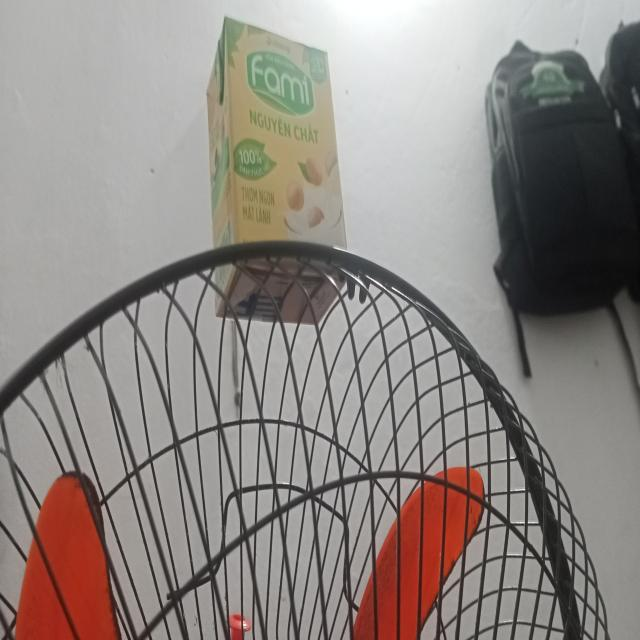Fami: (206, 16, 349, 329)
